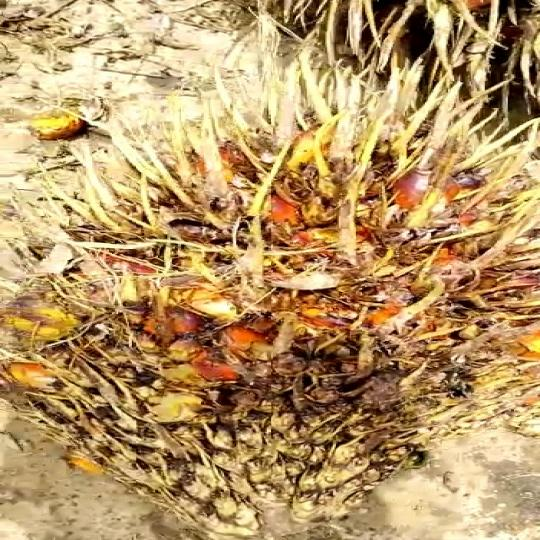terlalu masak: (0, 78, 540, 540)
